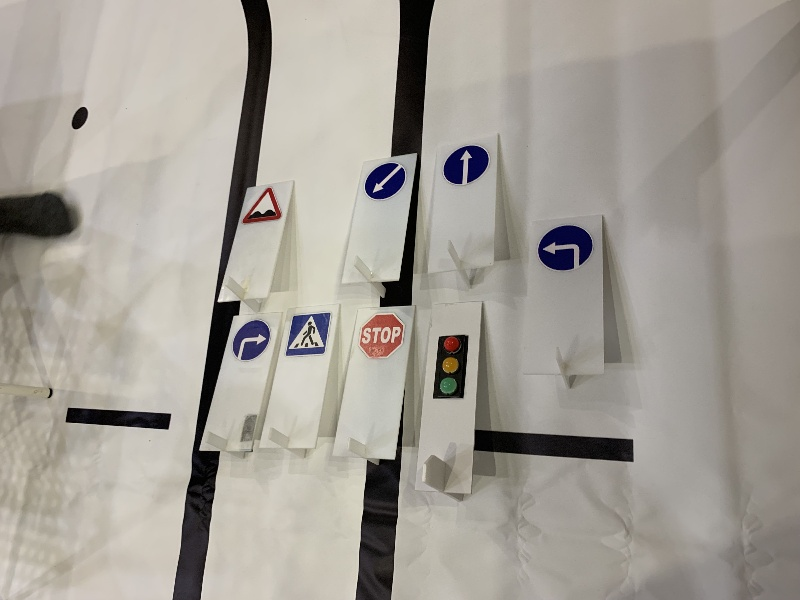Left: (535, 222, 595, 273)
Nerov: (239, 188, 286, 222)
Right: (230, 319, 270, 361)
Stop: (357, 314, 404, 357)
forw: (442, 144, 488, 183)
pesh: (285, 313, 333, 356)
prep: (361, 163, 408, 199)
